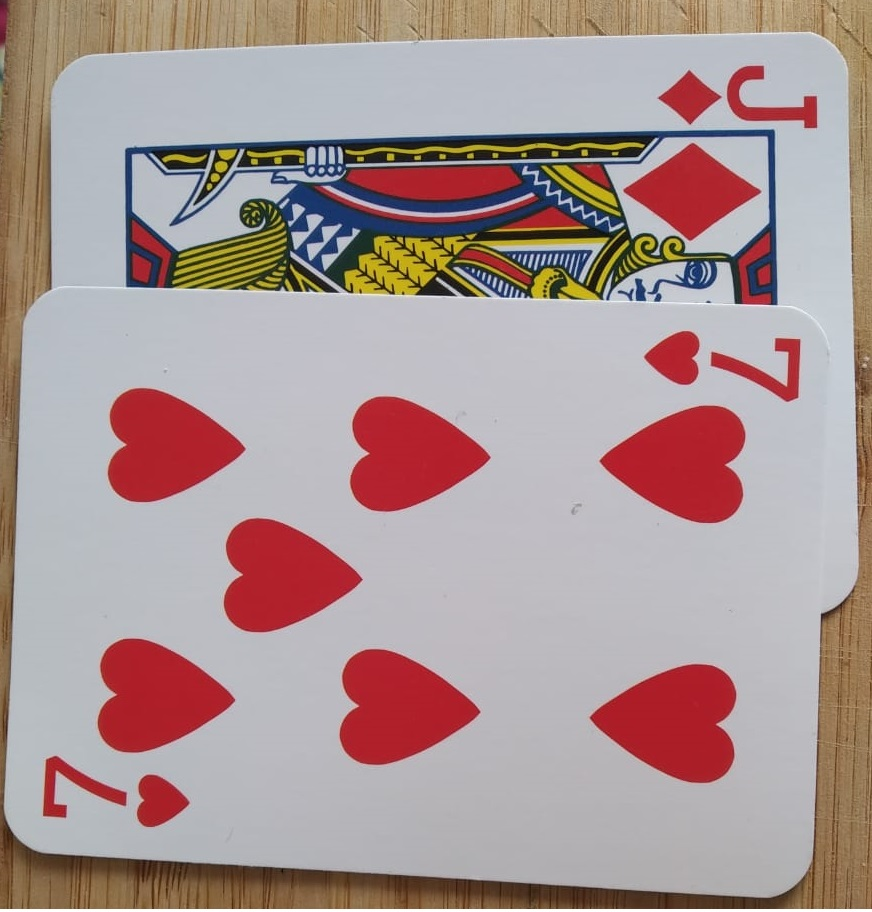jack: (30, 29, 872, 631)
seven: (2, 278, 865, 912)
